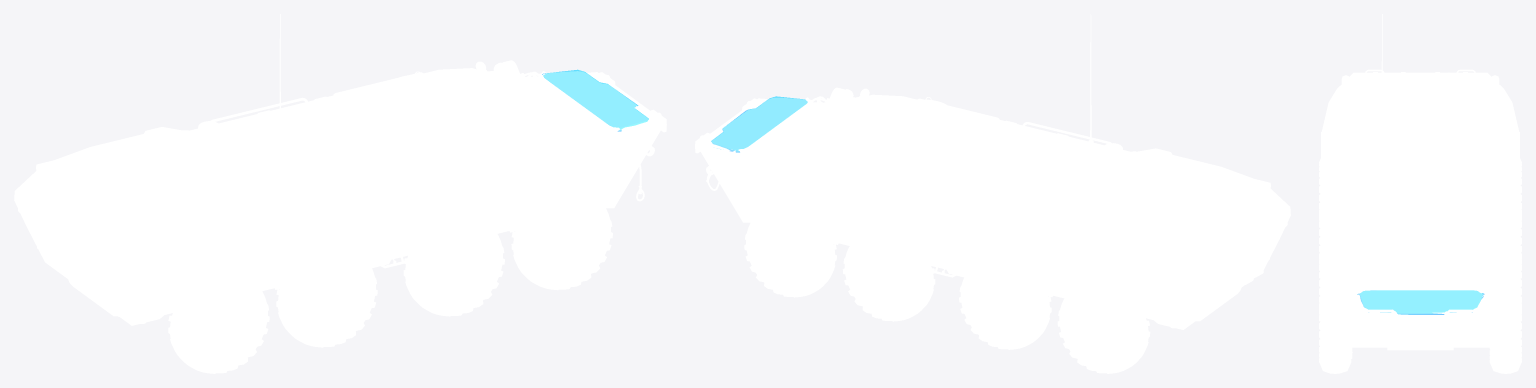
File: BTR80.gltf
3 views of the same model, side by side, from view 1: azimuth 30°, elevation 25°; view 2: azimuth 150°, elevation 25°; view 3: azimuth 270°, elevation 25° (orthographic). The views are drawn at different scales.
Visible parts, largest first — view 1: 35, 35_1, 35_4, BTR80_Watershield_Col_133, 35_3; view 2: 35, 35_1, 35_4, BTR80_Watershield_Col_133, 35_3; view 3: 35, 35_4, 35_1, BTR80_Watershield_Col_133, 35_3, 35_2.001.
Part boxes in pixels (<box>): 35: <box>14,14,666,325</box>; 35_1: <box>168,186,612,373</box>; 35_4: <box>356,71,478,141</box>; BTR80_Watershield_Col_133: <box>542,69,648,131</box>; 35_3: <box>436,70,524,98</box>; 35: <box>695,14,1290,329</box>; 35_1: <box>744,202,1150,373</box>; 35_4: <box>868,97,979,160</box>; BTR80_Watershield_Col_133: <box>711,96,807,152</box>; 35_3: <box>826,96,910,118</box>; 35: <box>1321,14,1519,358</box>; 35_4: <box>1369,168,1468,226</box>; 35_1: <box>1319,158,1521,373</box>; BTR80_Watershield_Col_133: <box>1357,290,1484,314</box>; 35_3: <box>1402,189,1428,237</box>; 35_2.001: <box>1337,265,1503,287</box>.
Size of what is drawn, in the model's own units: 7.78 by 4.06 by 2.92.
